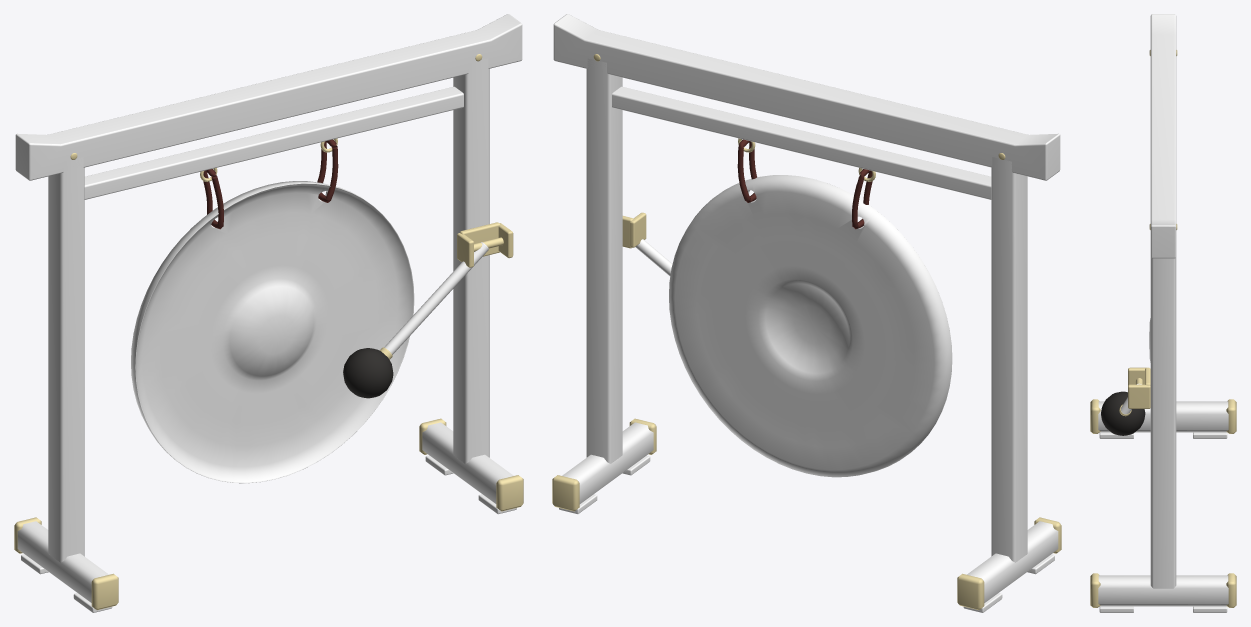
The picture shows the model from 3 angles, left to right: view 1: azimuth 30°, elevation 25°; view 2: azimuth 150°, elevation 25°; view 3: azimuth 270°, elevation 25°; orthographic projection. The views are drawn at different scales.
Visible parts, largest first — view 1: GongDisc, Fixed / Set wood / Walnut, Fixed / Polished pale brass, Mallet, Fixed / Oxblood waxed cotton, Fixed / Dense charcoal wool felt; view 2: GongDisc, Fixed / Set wood / Walnut, Fixed / Polished pale brass, Fixed / Oxblood waxed cotton, Fixed / Dense charcoal wool felt; view 3: Fixed / Set wood / Walnut, Fixed / Polished pale brass, Mallet, Fixed / Dense charcoal wool felt.
Part boxes in pixels (x1,y1,x2,y2): GongDisc: (131,181,414,483); Fixed / Set wood / Walnut: (15,14,522,602); Fixed / Polished pale brass: (14,54,523,610); Mallet: (343,242,488,398); Fixed / Oxblood waxed cotton: (203,139,338,229); Fixed / Dense charcoal wool felt: (21,455,516,612); GongDisc: (669,175,952,477); Fixed / Set wood / Walnut: (553,14,1060,602); Fixed / Polished pale brass: (552,54,1061,610); Fixed / Oxblood waxed cotton: (737,139,872,229); Fixed / Dense charcoal wool felt: (559,455,1054,612); Fixed / Set wood / Walnut: (1098,14,1228,606); Fixed / Polished pale brass: (1090,50,1236,607); Mallet: (1101,383,1145,435); Fixed / Dense charcoal wool felt: (1099,432,1227,612).
Bounding box in the file's own units: 0.1769 × 0.1563 × 0.0514.
